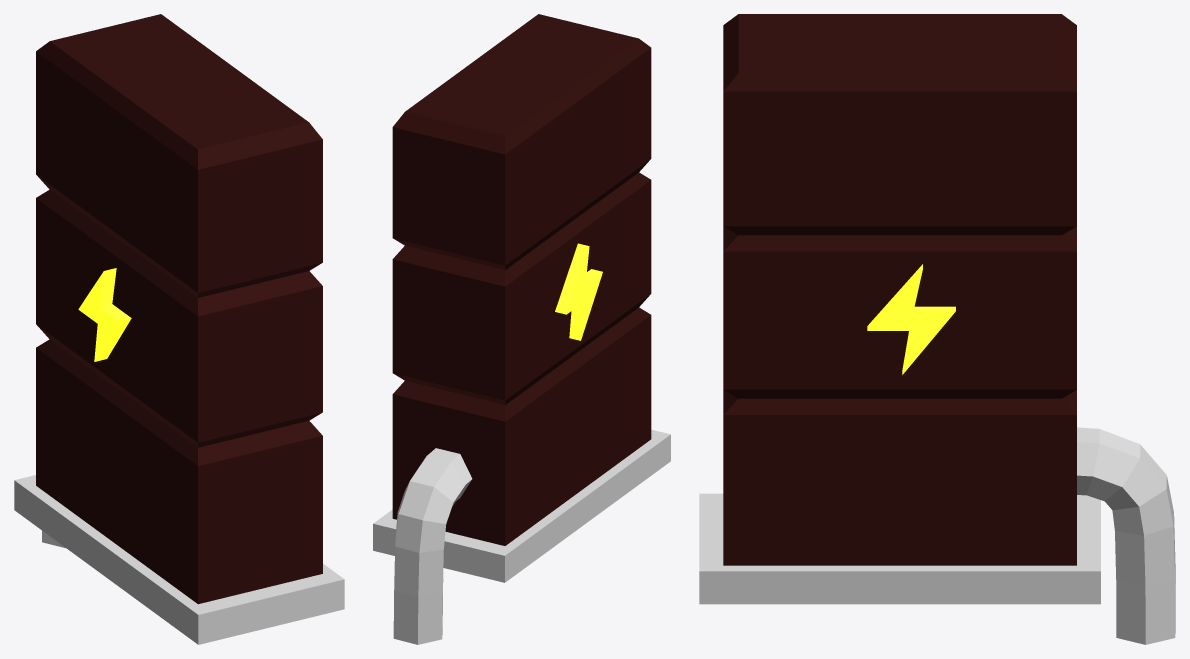
Rendered from Electricity.glb.
3 views of the same model, side by side, from view 1: azimuth 30°, elevation 25°; view 2: azimuth 150°, elevation 25°; view 3: azimuth 270°, elevation 25° (orthographic). The views are drawn at different scales.
Parts seen in each view (by area): view 1: Cube.030; view 2: Cube.030; view 3: Cube.030.
Part boxes in pixels (x1=…): Cube.030: x1=14, y1=14, x2=344, y2=644; Cube.030: x1=373, y1=14, x2=670, y2=644; Cube.030: x1=699, y1=14, x2=1175, y2=644.
Bounding box in the file's own units: 0.6685 × 2.31 × 1.7.
